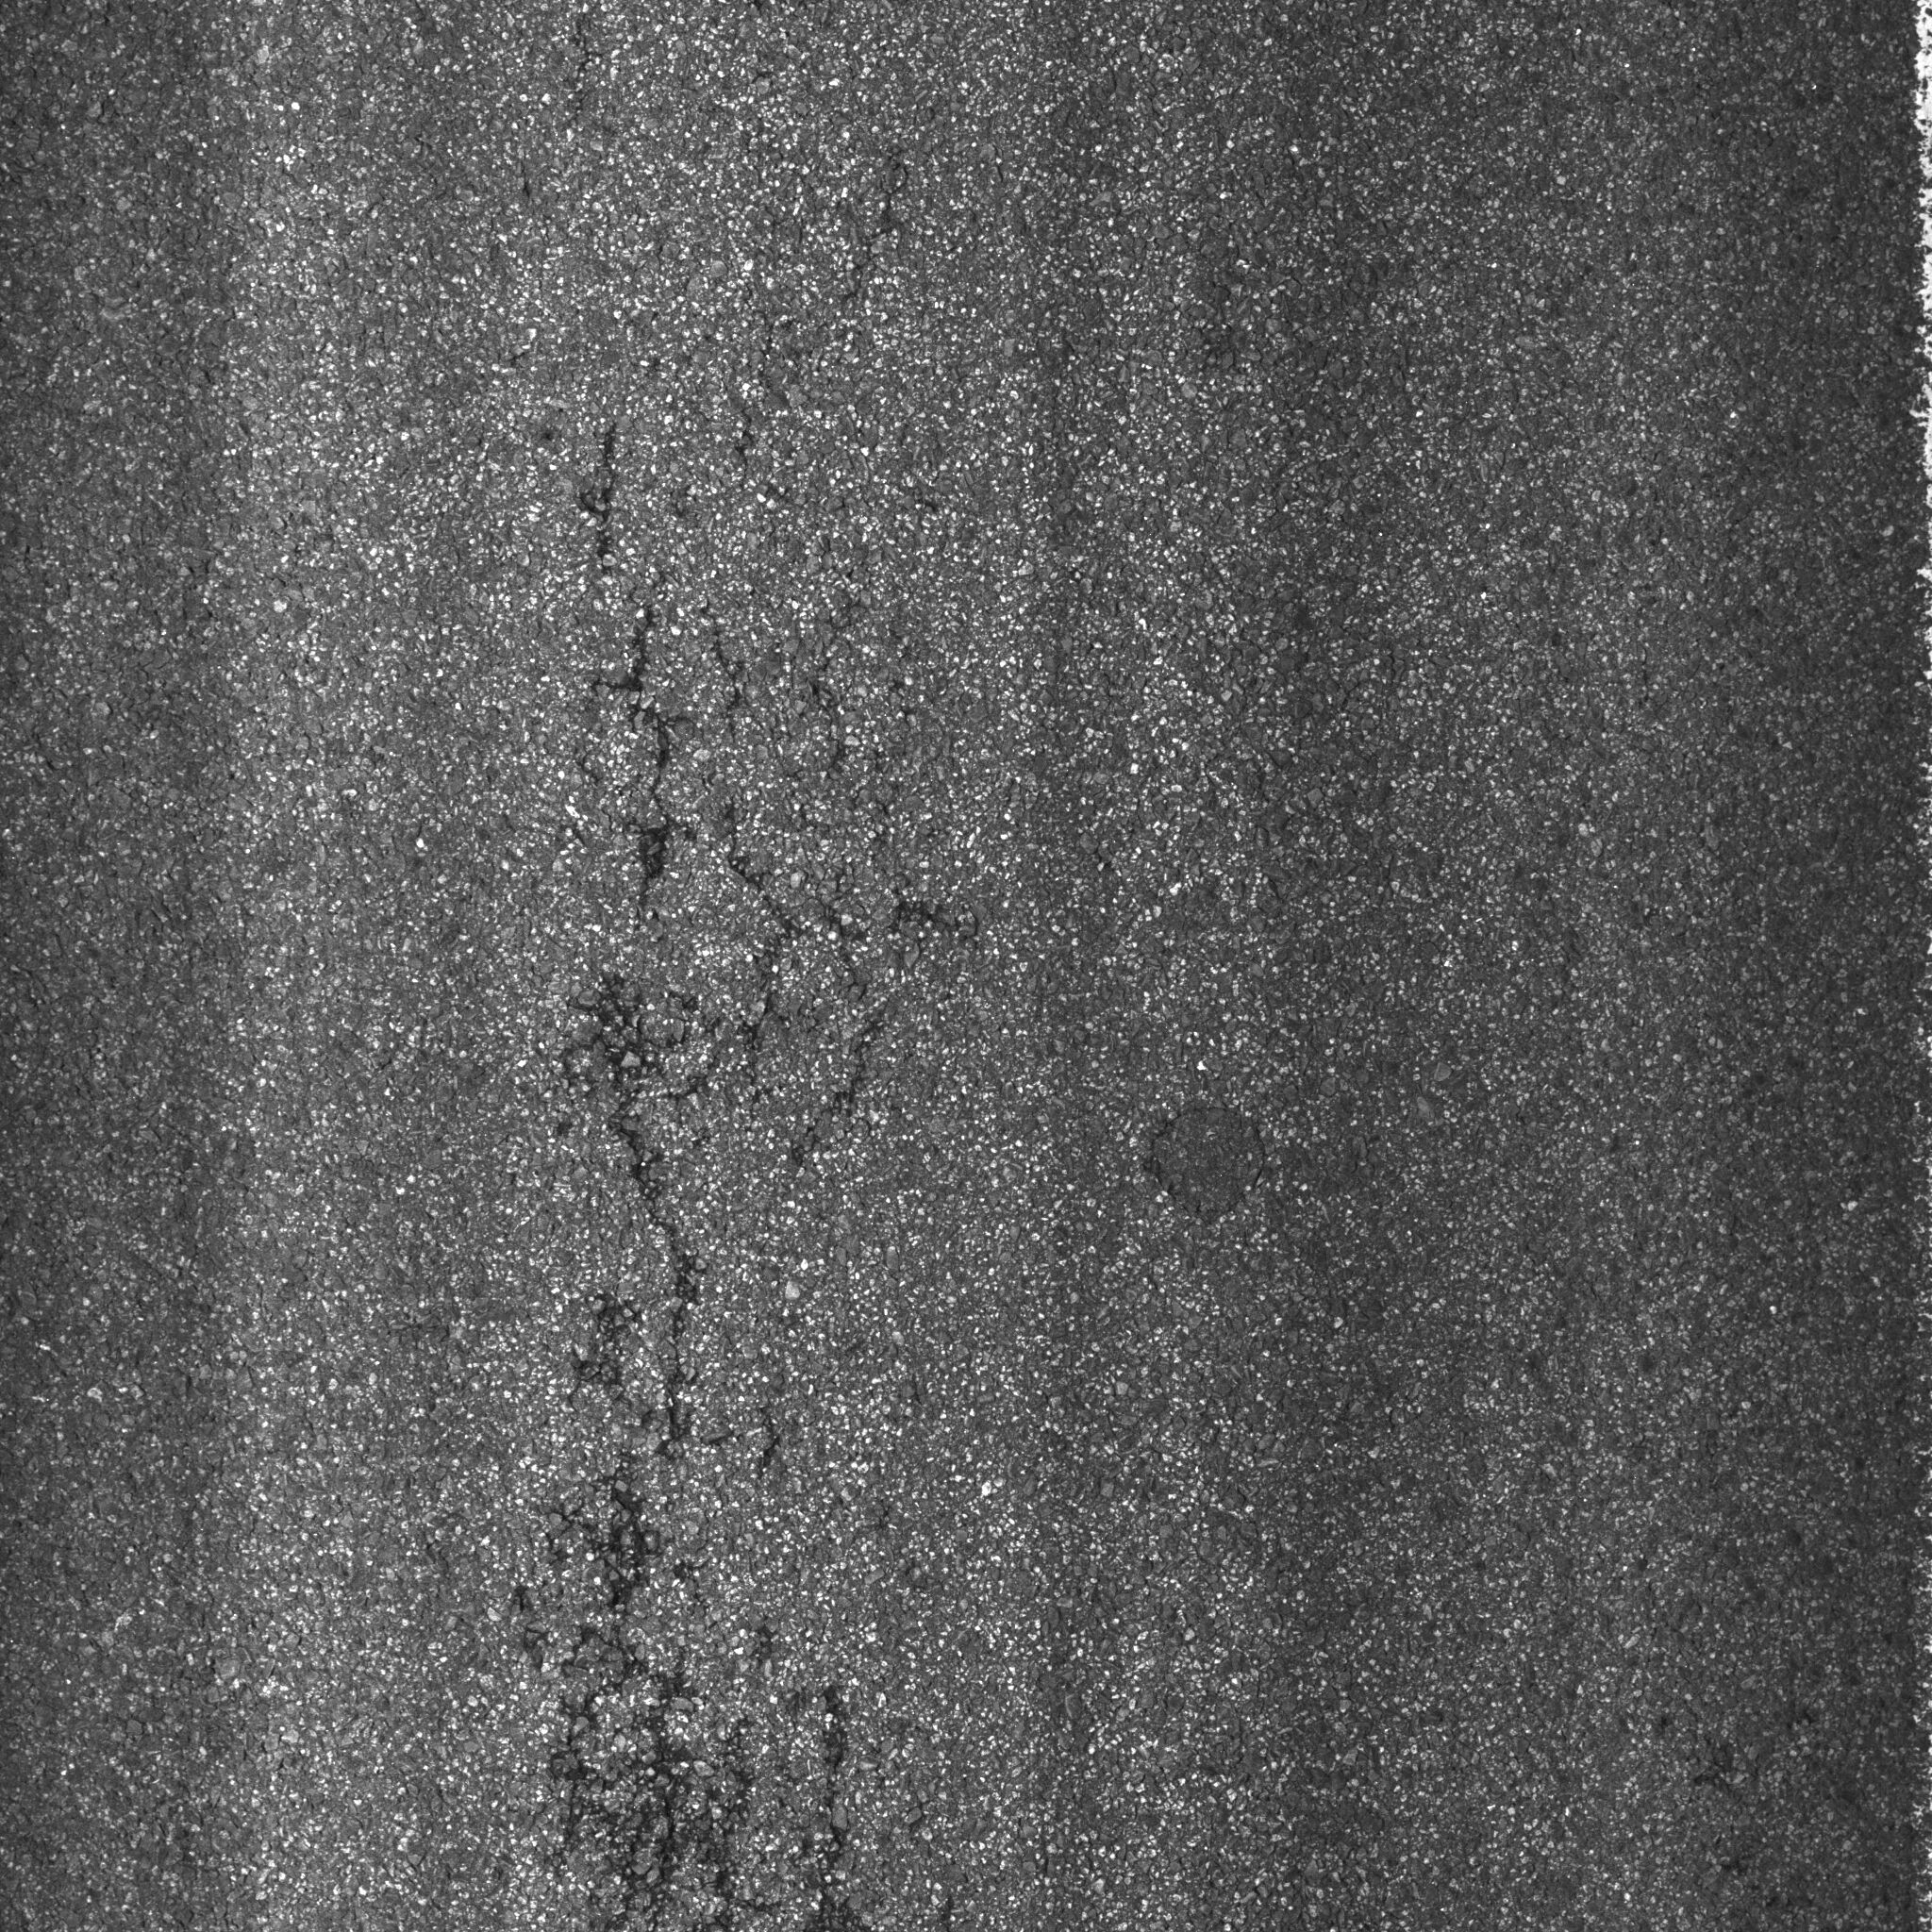alligator: (340, 389, 1120, 1930)
